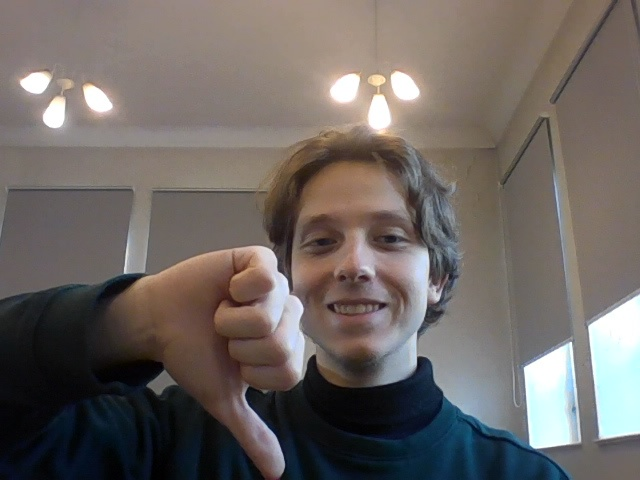no: (150, 243, 320, 480)
